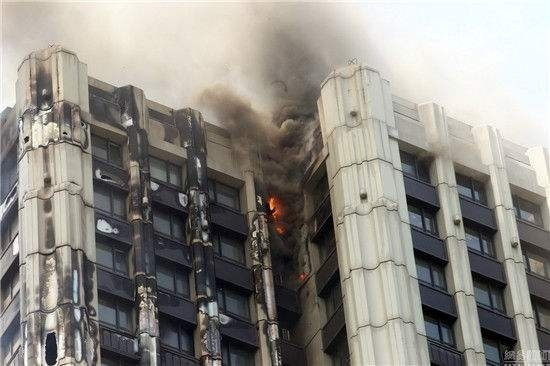fire: (266, 193, 285, 232)
